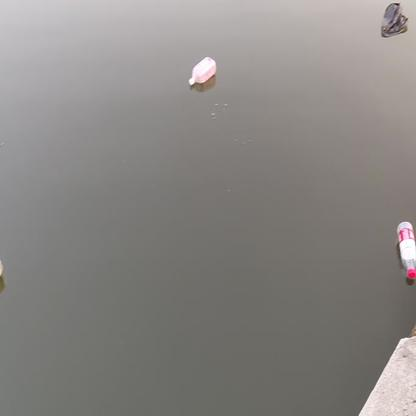plastic bag: (380, 2, 410, 38)
plastic bottle: (397, 221, 416, 278), (189, 57, 218, 84)
